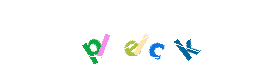C: (97, 0, 177, 80)
E: (87, 0, 167, 80)
K: (134, 0, 214, 80)
L: (72, 0, 152, 80), (89, 0, 169, 80)
P: (52, 0, 132, 80)
